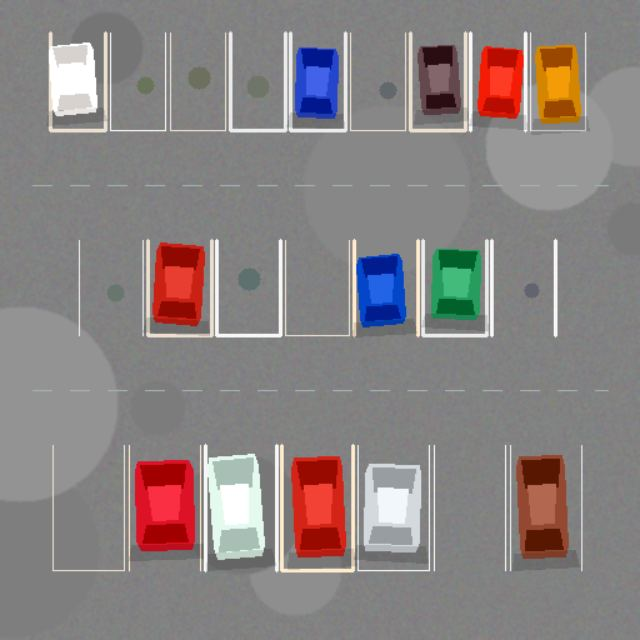space-empty: (52, 445, 124, 570), (434, 445, 505, 570), (79, 240, 143, 335), (216, 240, 280, 335), (285, 240, 349, 335), (491, 240, 555, 335), (110, 32, 165, 130), (170, 32, 225, 130), (230, 32, 285, 130), (350, 32, 405, 130)
space-occupied: (129, 445, 200, 570), (205, 445, 276, 570), (281, 445, 352, 570), (358, 445, 429, 570), (510, 445, 581, 570), (147, 240, 211, 335), (354, 240, 417, 335), (423, 240, 486, 335), (50, 32, 105, 130), (290, 32, 345, 130), (410, 32, 465, 130), (470, 32, 525, 130), (530, 32, 585, 130)
